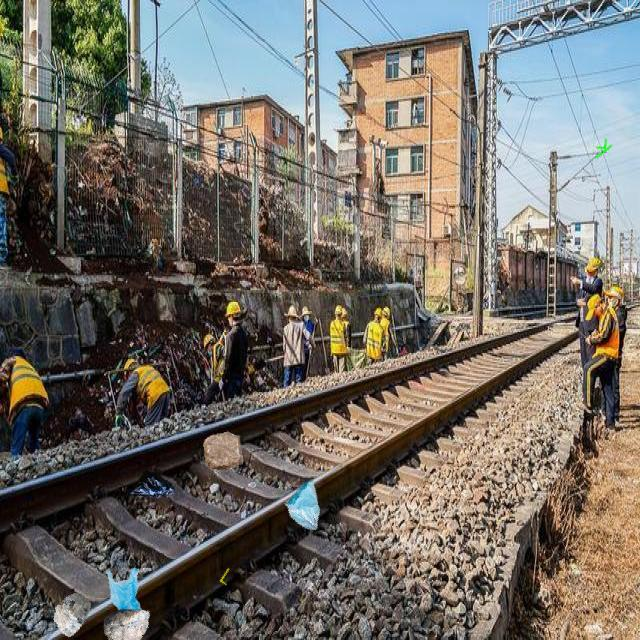0 plastic_garbage_on_track: (283, 479, 321, 531), (104, 567, 141, 614), (127, 469, 176, 499)
1 stone_on_track: (53, 592, 91, 637), (203, 431, 244, 470), (103, 608, 150, 640)
2 negative_shape: (76, 180, 86, 189)
3 negative_text: (594, 137, 612, 159), (220, 568, 230, 586), (463, 78, 470, 86)
4 track: (0, 337, 554, 639)
